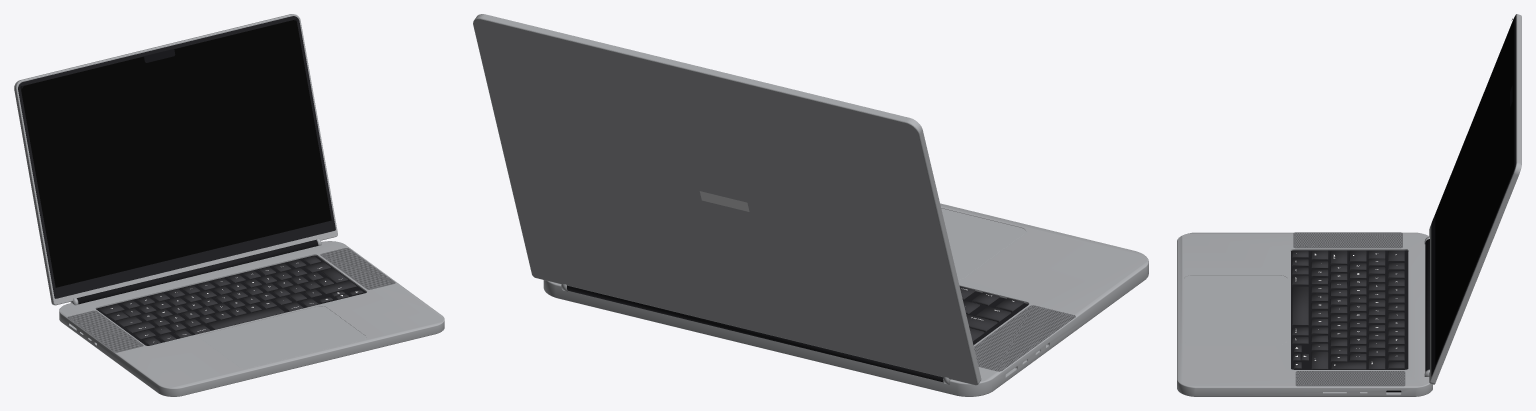
The model's file is laptop-v3.glb.
3 views of the same model, side by side, from view 1: azimuth 30°, elevation 25°; view 2: azimuth 150°, elevation 25°; view 3: azimuth 270°, elevation 25° (orthographic). The views are drawn at different scales.
Visible parts, largest first — view 1: Display_132, MBP_Base.001, MBP_Keys.001, MBP_DisplayGlass.001, MBP_Trackpad.001, MBP_Lid.001, MBP_KeyboardPlate.001, MBP_HingeCyl.001, MBP_GrilleL.001, MBP_GrilleR.001; view 2: MBP_Lid.001, MBP_Base.001, MBP_GrilleL.001, MBP_Trackpad.001, MBP_HingeCyl.001, MBP_Keys.001, MBP_KeyboardPlate.001; view 3: MBP_Base.001, Display_132, MBP_Keys.001, MBP_Trackpad.001, MBP_KeyboardPlate.001, MBP_Lid.001, MBP_GrilleL.001, MBP_GrilleR.001, MBP_DisplayGlass.001, MBP_HingeCyl.001.
Part boxes in pixels (bbox=[...]): Display_132: bbox=[20, 19, 331, 287]; MBP_Base.001: bbox=[59, 241, 444, 396]; MBP_Keys.001: bbox=[99, 256, 363, 345]; MBP_DisplayGlass.001: bbox=[18, 16, 335, 298]; MBP_Trackpad.001: bbox=[200, 306, 366, 368]; MBP_Lid.001: bbox=[14, 14, 337, 305]; MBP_KeyboardPlate.001: bbox=[96, 255, 366, 345]; MBP_HingeCyl.001: bbox=[77, 240, 318, 304]; MBP_GrilleL.001: bbox=[67, 310, 143, 352]; MBP_GrilleR.001: bbox=[320, 248, 395, 289]; MBP_Lid.001: bbox=[473, 14, 981, 385]; MBP_Base.001: bbox=[543, 203, 1148, 396]; MBP_GrilleL.001: bbox=[974, 305, 1075, 371]; MBP_Trackpad.001: bbox=[941, 208, 1025, 280]; MBP_HingeCyl.001: bbox=[567, 285, 943, 382]; MBP_Keys.001: bbox=[959, 286, 1023, 341]; MBP_KeyboardPlate.001: bbox=[963, 291, 1028, 345]; MBP_Base.001: bbox=[1177, 232, 1432, 396]; Display_132: bbox=[1435, 19, 1514, 364]; MBP_Keys.001: bbox=[1292, 250, 1404, 369]; MBP_Trackpad.001: bbox=[1184, 275, 1286, 344]; MBP_KeyboardPlate.001: bbox=[1291, 250, 1408, 369]; MBP_Lid.001: bbox=[1429, 14, 1521, 384]; MBP_GrilleL.001: bbox=[1293, 232, 1402, 248]; MBP_GrilleR.001: bbox=[1295, 371, 1405, 386]; MBP_DisplayGlass.001: bbox=[1431, 16, 1515, 376]; MBP_HingeCyl.001: bbox=[1425, 239, 1429, 371].
Bounding box in the file's own units: 0.3557 × 0.2469 × 0.3339.
10 materials, 1 textured.
